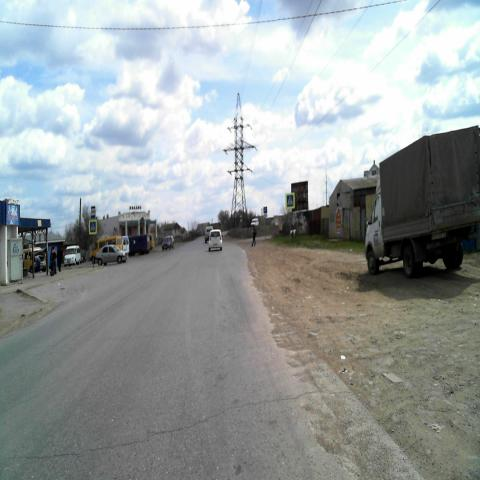5_16: (90, 205, 96, 219)
5_19_1: (285, 192, 295, 210), (89, 220, 97, 235)
6_4: (263, 206, 267, 214)
